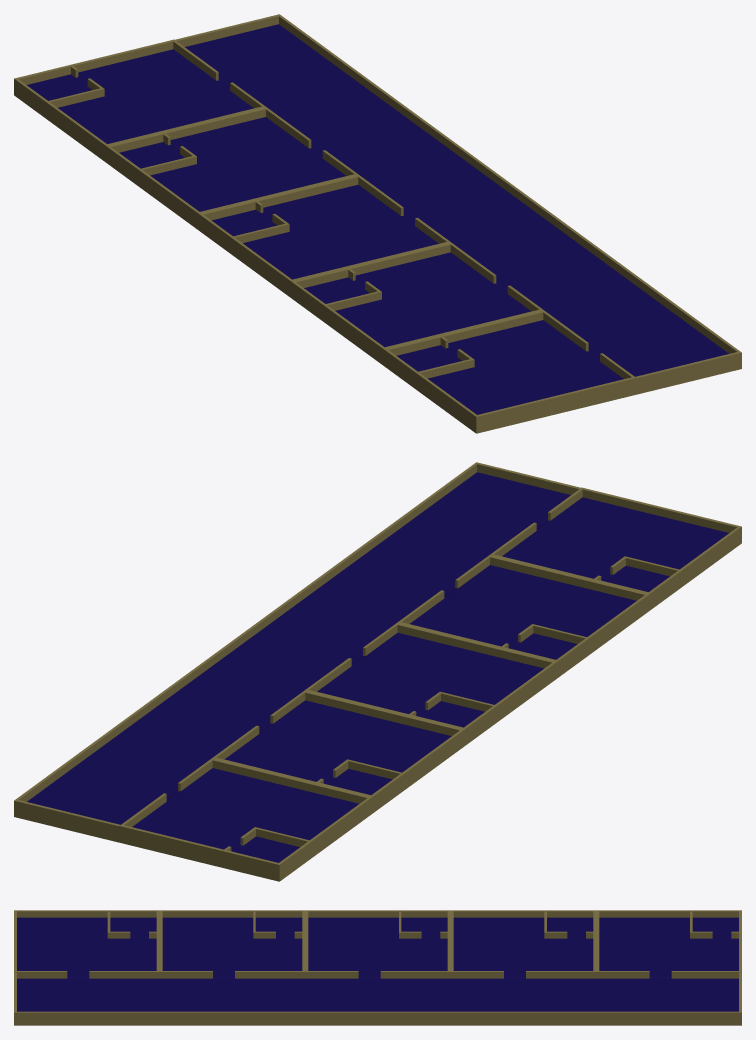
The model's file is FloorFinal.fbx.
3 renders of one model, top to bottom at view 1: azimuth 30°, elevation 25°; view 2: azimuth 150°, elevation 25°; view 3: azimuth 270°, elevation 25°, orthographic. The views are drawn at different scales.
Visible parts, largest first — view 1: Room; view 2: Room; view 3: Room.
Boxes of the visible parts, x1,y1,x2,y2 form: Room: (14,14,741,433); Room: (14,462,741,881); Room: (14,910,741,1025).
Size of the model in its own units: 332 by 20 by 1000.
